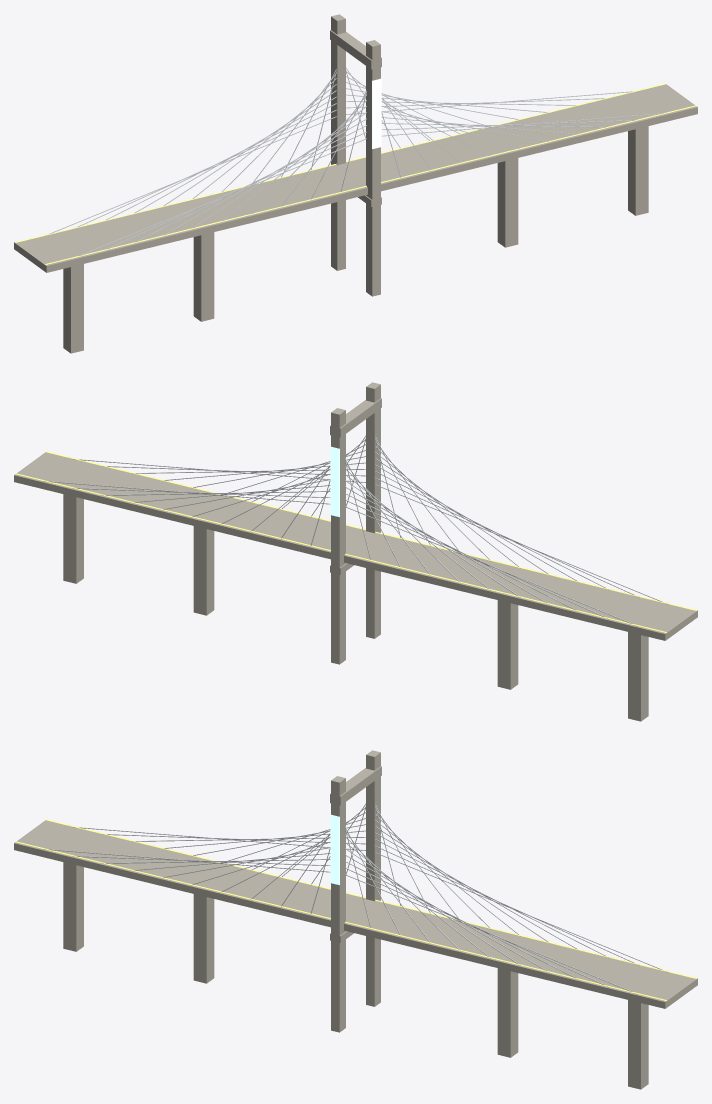
Rendered from cable_stayed_bridge.glb.
The picture shows the model from 3 angles, top to bottom: view 1: azimuth 30°, elevation 25°; view 2: azimuth 150°, elevation 25°; view 3: azimuth 330°, elevation 25°; orthographic projection.
Visible parts, largest first — view 1: bridge; view 2: bridge; view 3: bridge.
Boxes of the visible parts, <box> form: bridge: <box>14,14,697,353</box>; bridge: <box>14,382,697,721</box>; bridge: <box>14,750,697,1089</box>.
Size of the model in its own units: 300 by 110 by 33.5.
